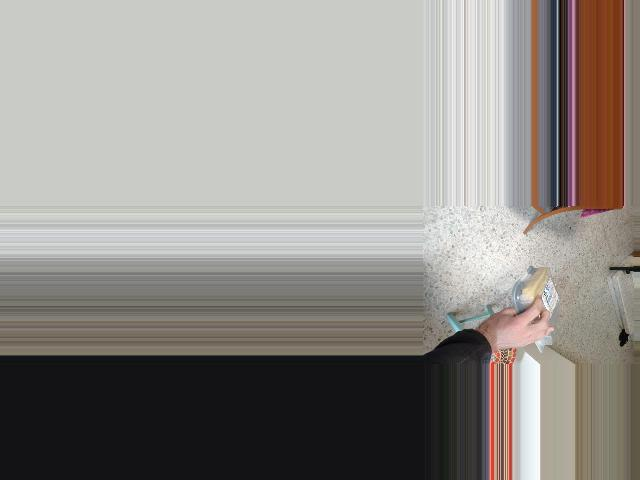cheese: (518, 264, 560, 328)
